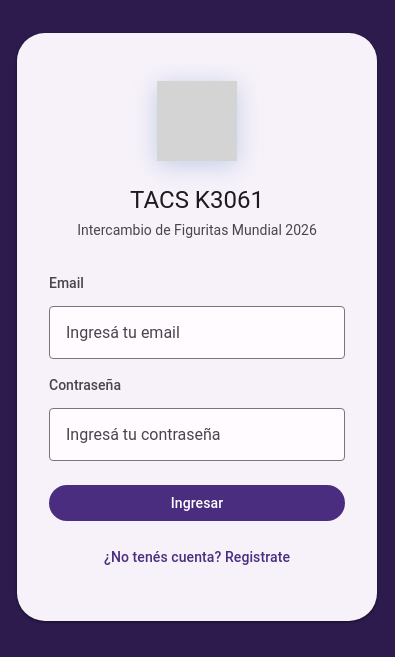
it: LoginPage — validación cliente › contraseña corta muestra error
Type "a@b.com" into the field with placeholder "Ingresá tu email".
click(197, 332); type("a@b.com")  # box [49,306,345,359]
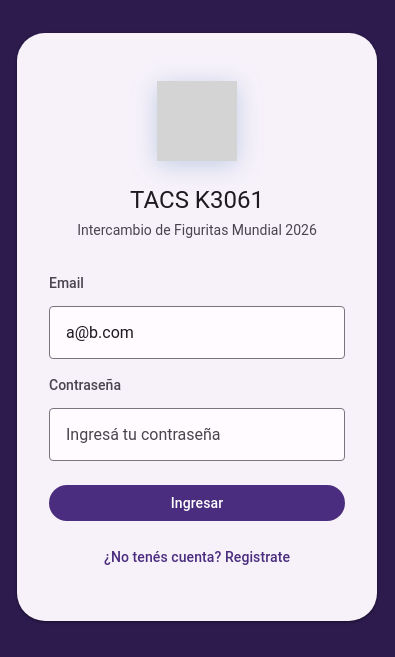
Type "123" into the password field with placeholder "Ingresá tu contraseña".
click(197, 434); type("123")  # box [49,408,345,461]
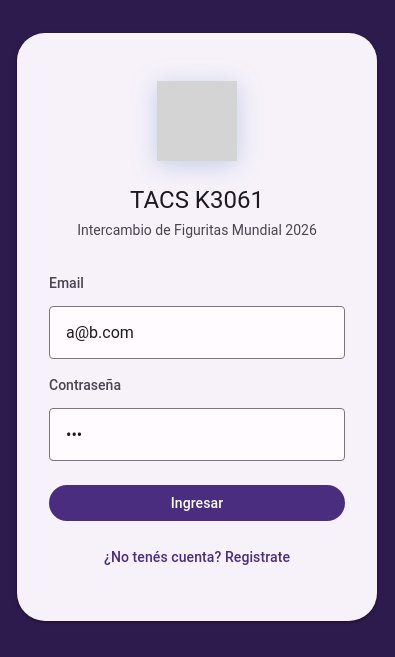
Click the button "Ingresar".
click(197, 503)  # box [49,485,345,521]
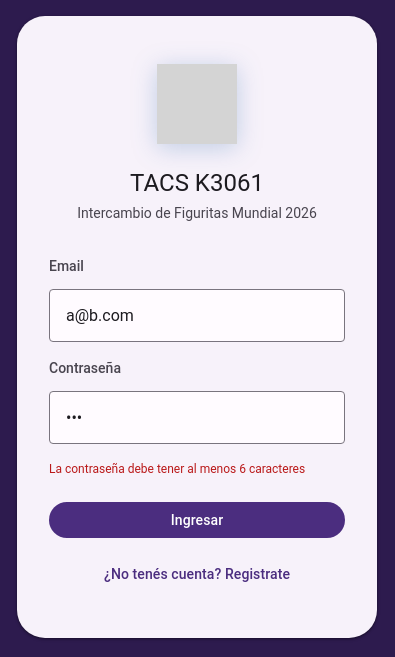
Expected: the text "La contraseña debe tener al menos 6 caracteres" is shown, [49,460,345,478]
